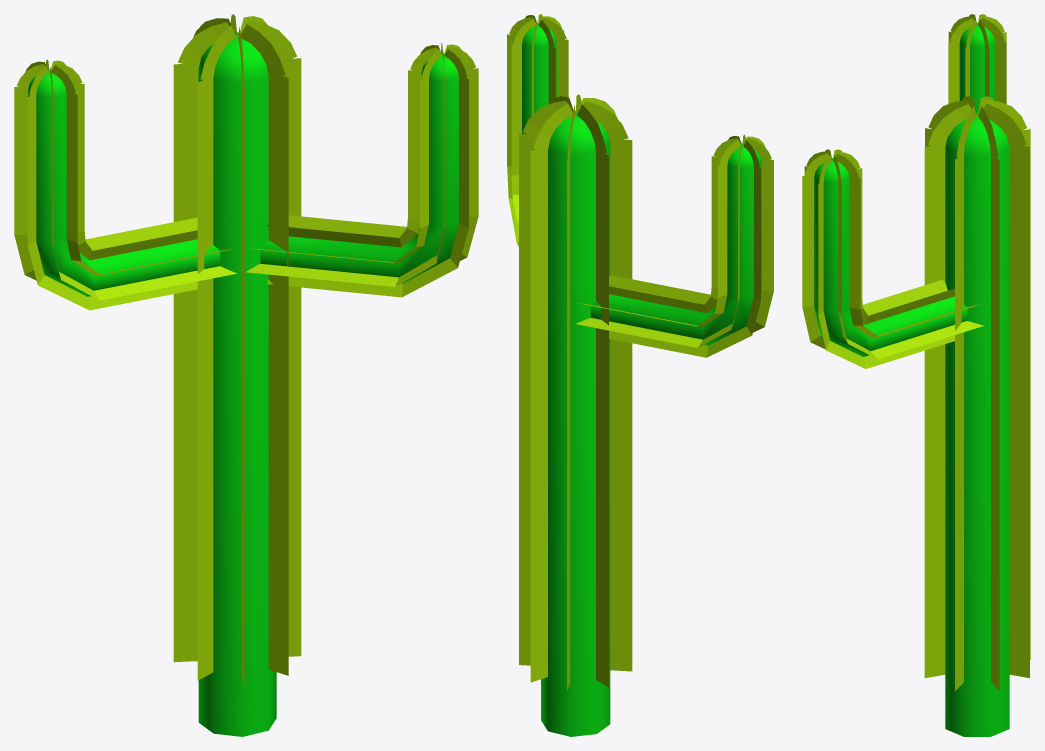
File: Cactus1.gltf
The picture shows the model from 3 angles, left to right: view 1: azimuth 30°, elevation 25°; view 2: azimuth 150°, elevation 25°; view 3: azimuth 270°, elevation 25°; orthographic projection. The views are drawn at different scales.
Visible parts, largest first — view 1: Cactus_Tall_1; view 2: Cactus_Tall_1; view 3: Cactus_Tall_1.
Part boxes in pixels (x1,y1,x2,y2): Cactus_Tall_1: [14, 14, 478, 736]; Cactus_Tall_1: [507, 14, 773, 736]; Cactus_Tall_1: [802, 14, 1030, 736].
Bounding box in the file's own units: 1.21 × 2.19 × 0.7249.
